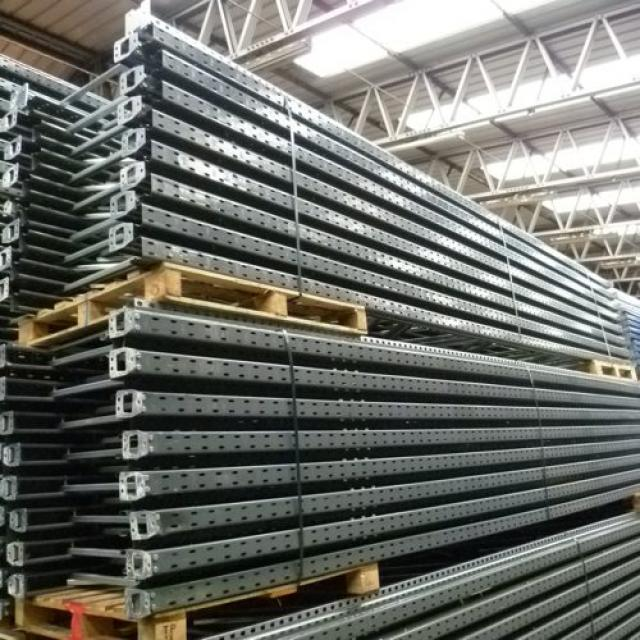Palette: (6, 261, 388, 364), (5, 554, 389, 640), (591, 354, 640, 396)
